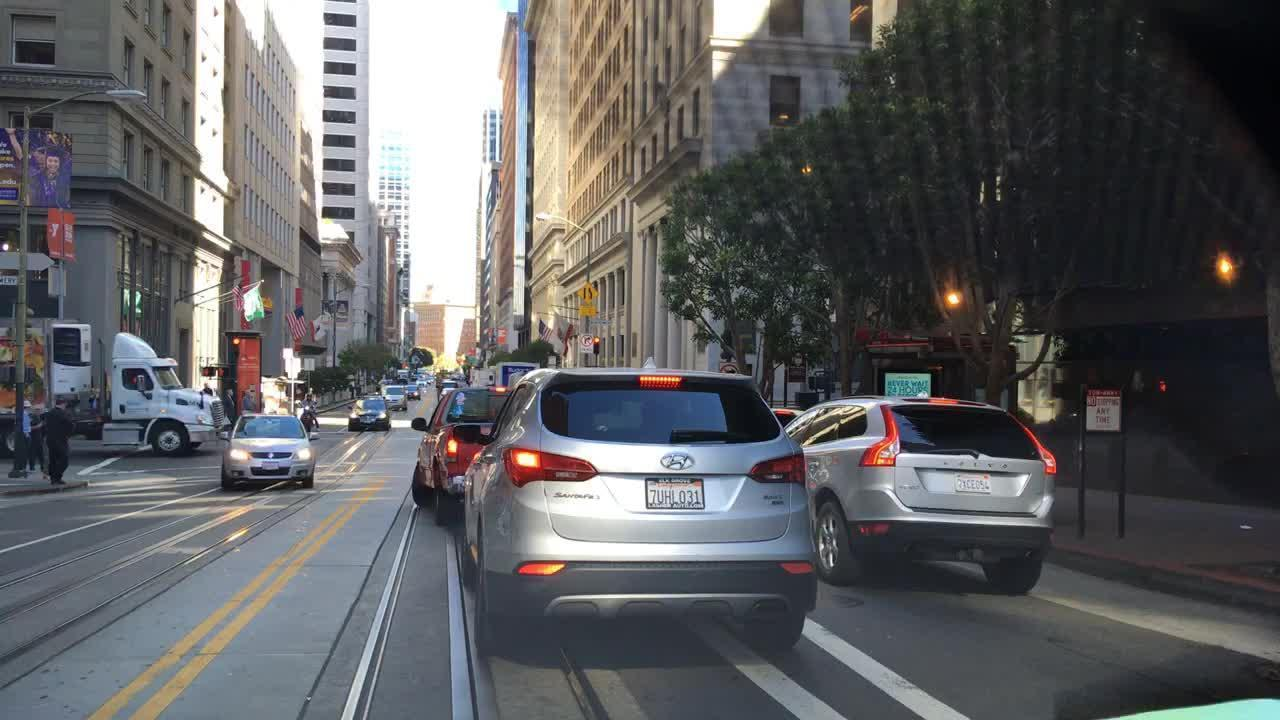Hyundai: (656, 449, 699, 475)
